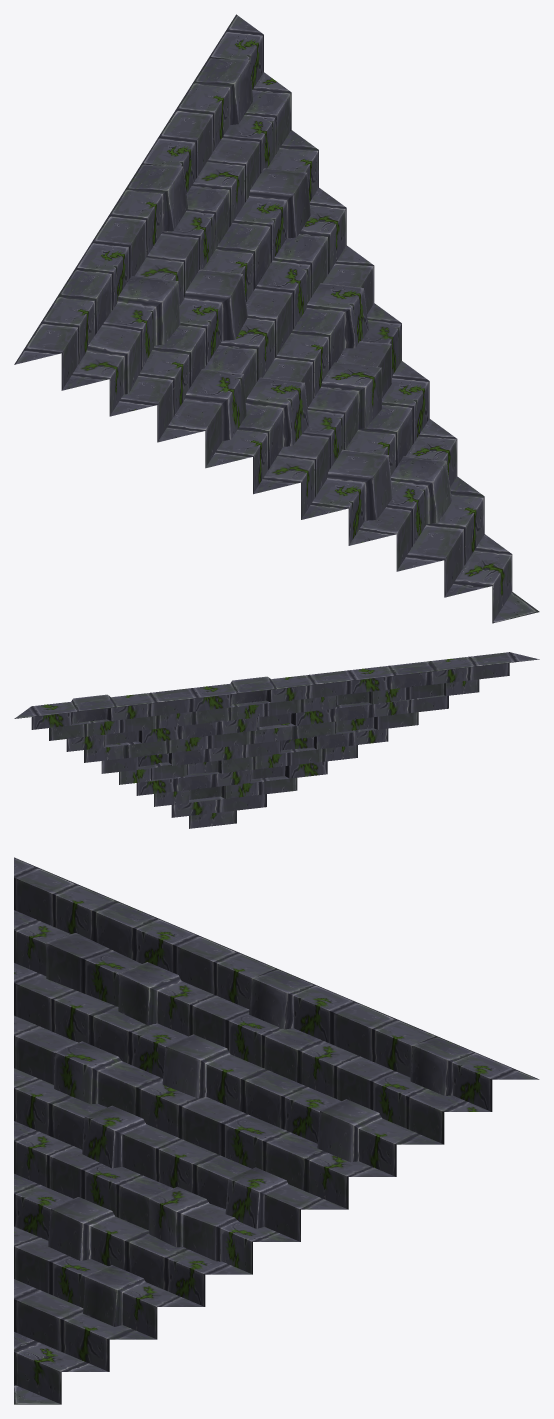
Rendered from MOD_Stairs_01_E_angle_concave_2.fbx.
3 renders of one model, top to bottom at view 1: azimuth 30°, elevation 25°; view 2: azimuth 150°, elevation 25°; view 3: azimuth 270°, elevation 25°, orthographic. The views are drawn at different scales.
Visible parts, largest first — view 1: MOD_Stairs_01_E_angle_concave_2; view 2: MOD_Stairs_01_E_angle_concave_2; view 3: MOD_Stairs_01_E_angle_concave_2.
Boxes of the visible parts, <box> form: MOD_Stairs_01_E_angle_concave_2: <box>14,14,539,623</box>; MOD_Stairs_01_E_angle_concave_2: <box>14,652,539,828</box>; MOD_Stairs_01_E_angle_concave_2: <box>14,857,539,1404</box>.
Size of what is drawn, in the model's own units: 400 by 275 by 400.
